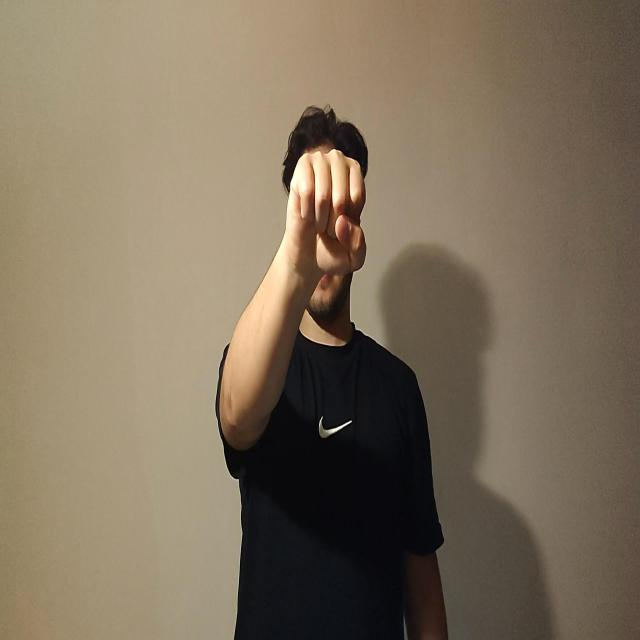yes: (284, 147, 367, 287)
